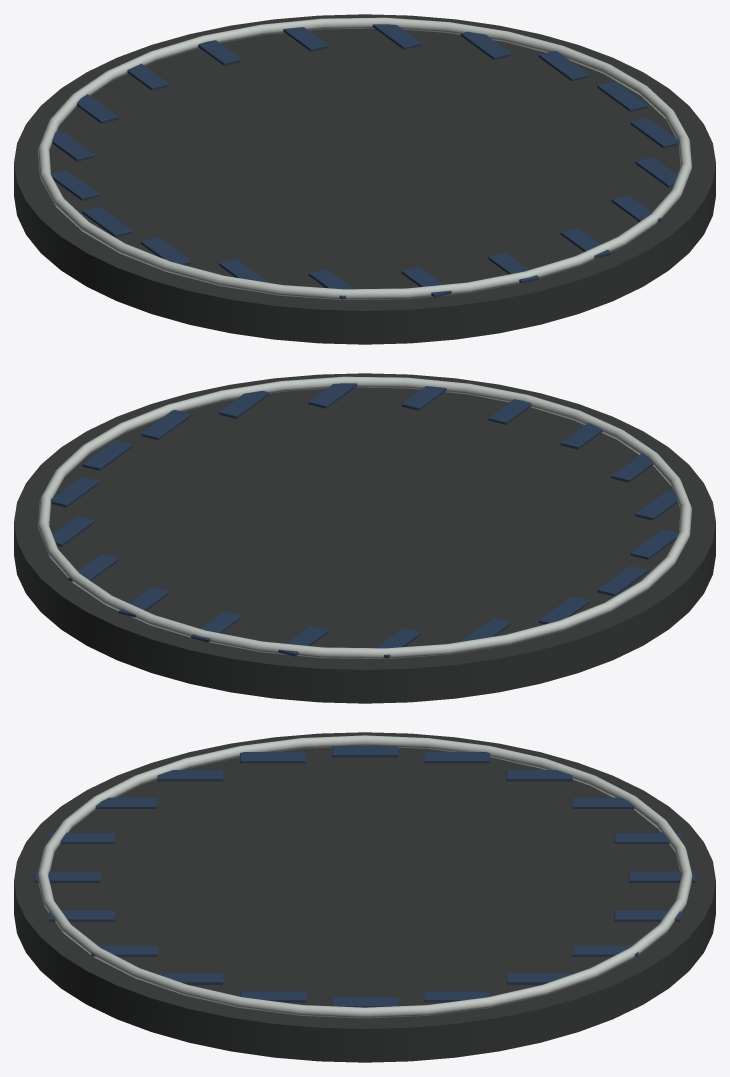
File: planetarium-and-optical-observatory-projector-service--44733c4d__31827.glb
3 views of the same model, one above another, from view 1: azimuth 30°, elevation 25°; view 2: azimuth 150°, elevation 25°; view 3: azimuth 270°, elevation 25° (orthographic).
Visible parts, largest first — view 1: projector-service-platform; view 2: projector-service-platform; view 3: projector-service-platform.
Part boxes in pixels (<box>): projector-service-platform: <box>14,14,715,344</box>; projector-service-platform: <box>14,373,715,703</box>; projector-service-platform: <box>14,732,715,1062</box>.
Size of the model in its own units: 1.7 by 0.114 by 1.7.
